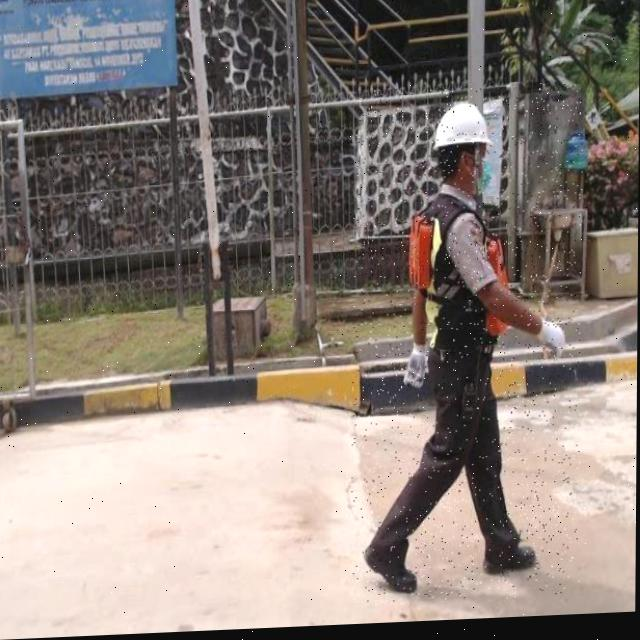Gloves: (403, 349, 430, 393), (538, 324, 566, 356)
Helmet: (432, 104, 494, 155)
Safety-Boot: (362, 540, 417, 598)
Safety-Vest: (409, 194, 511, 349)
